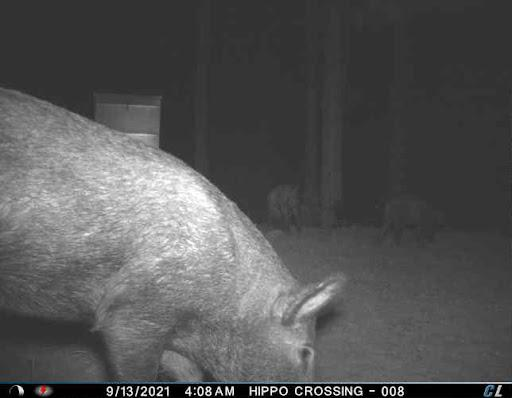Hog: (0, 76, 347, 386), (376, 185, 454, 250), (265, 172, 305, 237)
